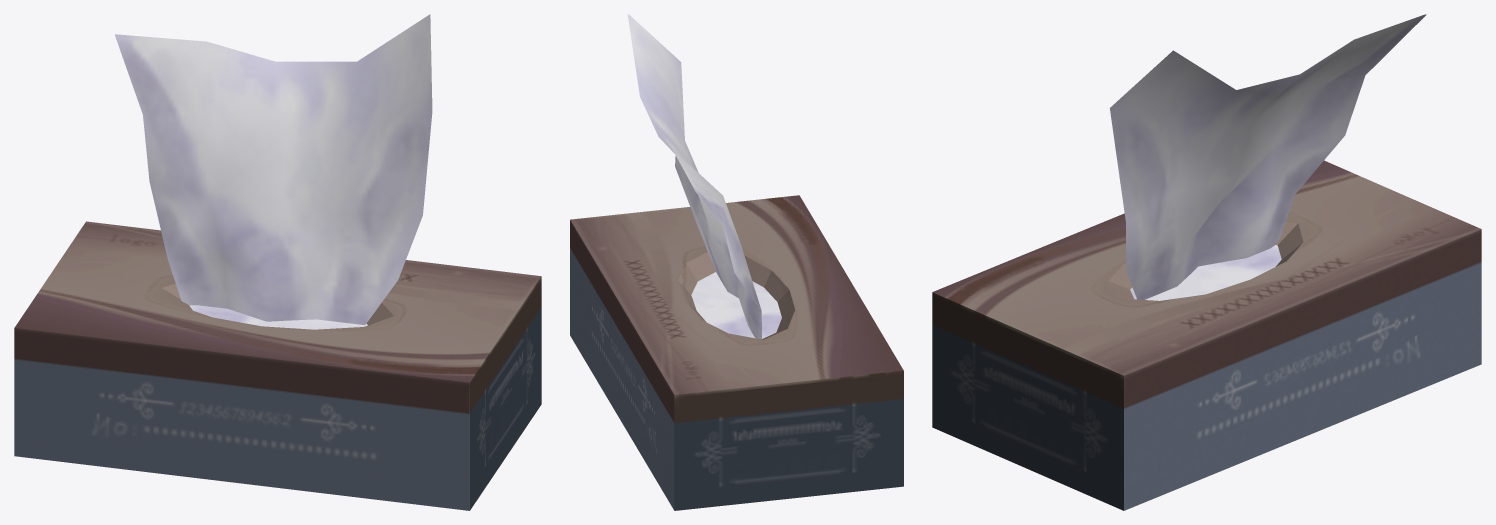
The model's file is ShenFuXiuXiShi_01_zhijinhe_01.FBX.
3 views of the same model, side by side, from view 1: azimuth 30°, elevation 25°; view 2: azimuth 150°, elevation 25°; view 3: azimuth 270°, elevation 25° (orthographic). The views are drawn at different scales.
Visible parts, largest first — view 1: ShenFuXiuXiShi_01_zhijinhe_01; view 2: ShenFuXiuXiShi_01_zhijinhe_01; view 3: ShenFuXiuXiShi_01_zhijinhe_01.
Part boxes in pixels (x1,y1,x2,y2): ShenFuXiuXiShi_01_zhijinhe_01: (14, 14, 541, 510); ShenFuXiuXiShi_01_zhijinhe_01: (570, 14, 903, 510); ShenFuXiuXiShi_01_zhijinhe_01: (932, 14, 1481, 510).
Bounding box in the file's own units: 153 × 129 × 155.
